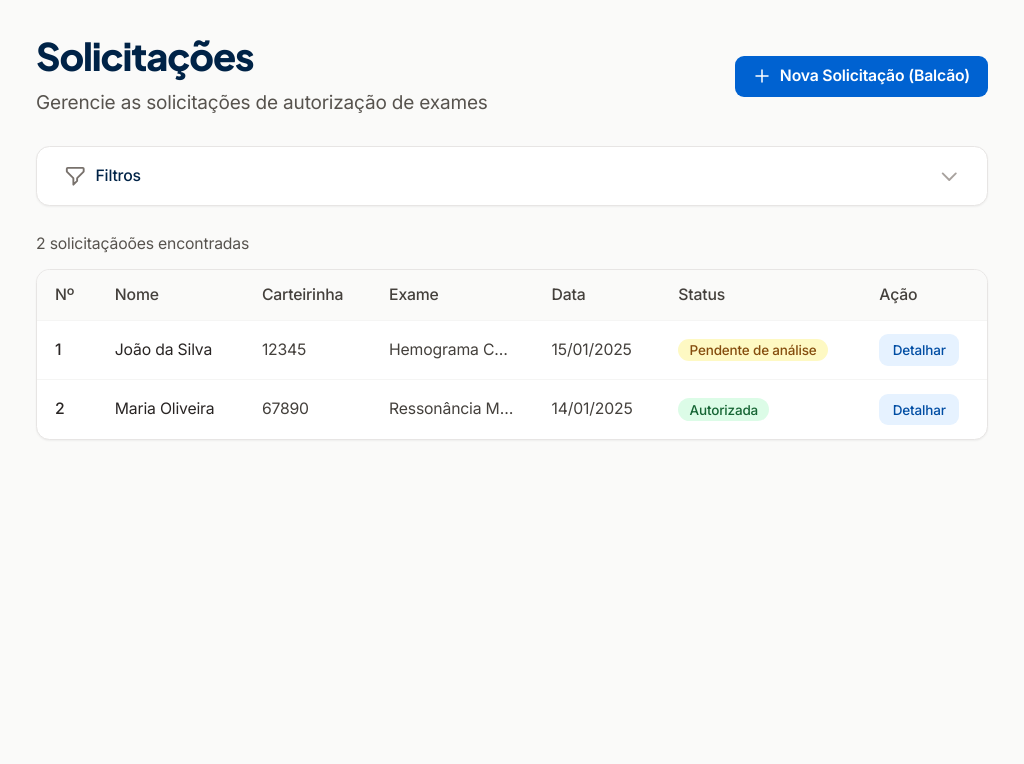
Scenario: AdminSolicitacoes › renders no results state when filters yield no results
The width and height of the screenshot is (1024, 764).
Expected: the text "João da Silva" is shown, [97,320,244,380]
Note: Expand filter panel
Step 1. Click the button "Filtros" → (118, 175), box [37,147,987,206]
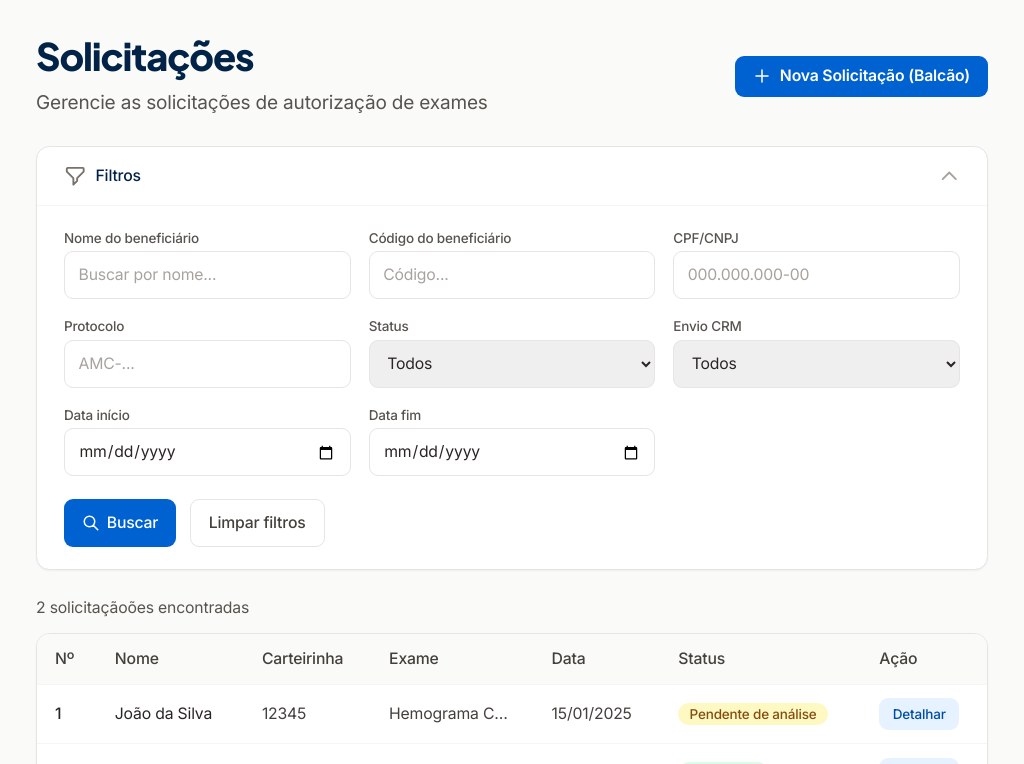
Note: Fill in a filter
Step 2. Type "Inexistente" into the field labelled "Nome do beneficiário" → (207, 276), box [64,252,351,300]
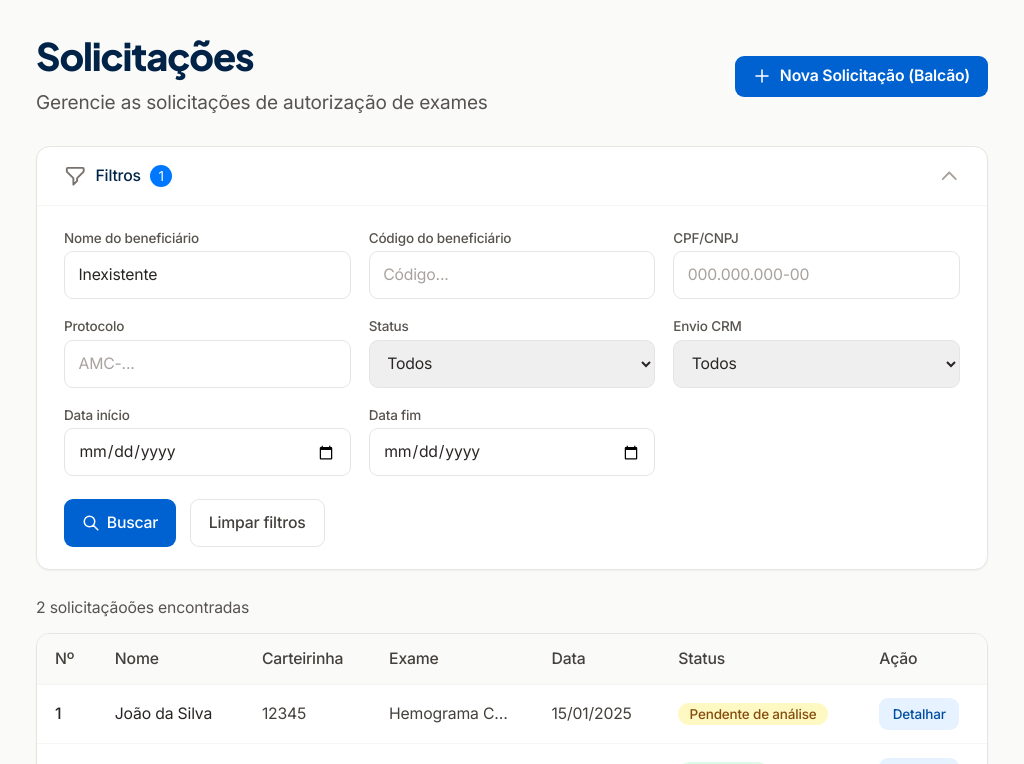
Note: Submit filter
Step 3. Click the button "Buscar" → (120, 523), box [64,499,176,547]
(page scrolled)
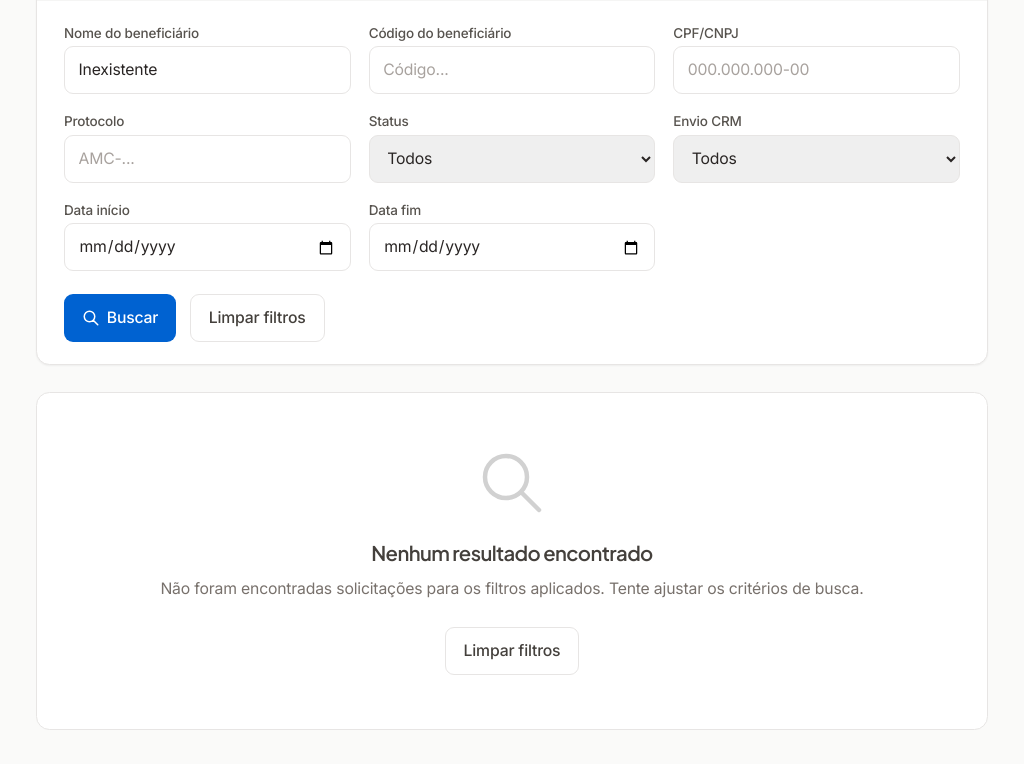
Expected: the heading "Nenhum resultado encontrado" is shown, [371,540,653,566]
